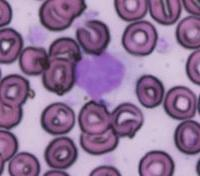M: (74, 50, 130, 100)
